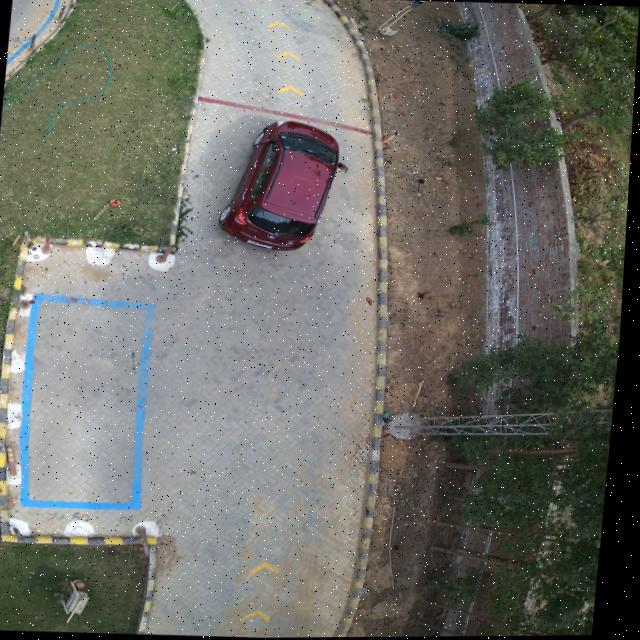car: (222, 121, 346, 251)
